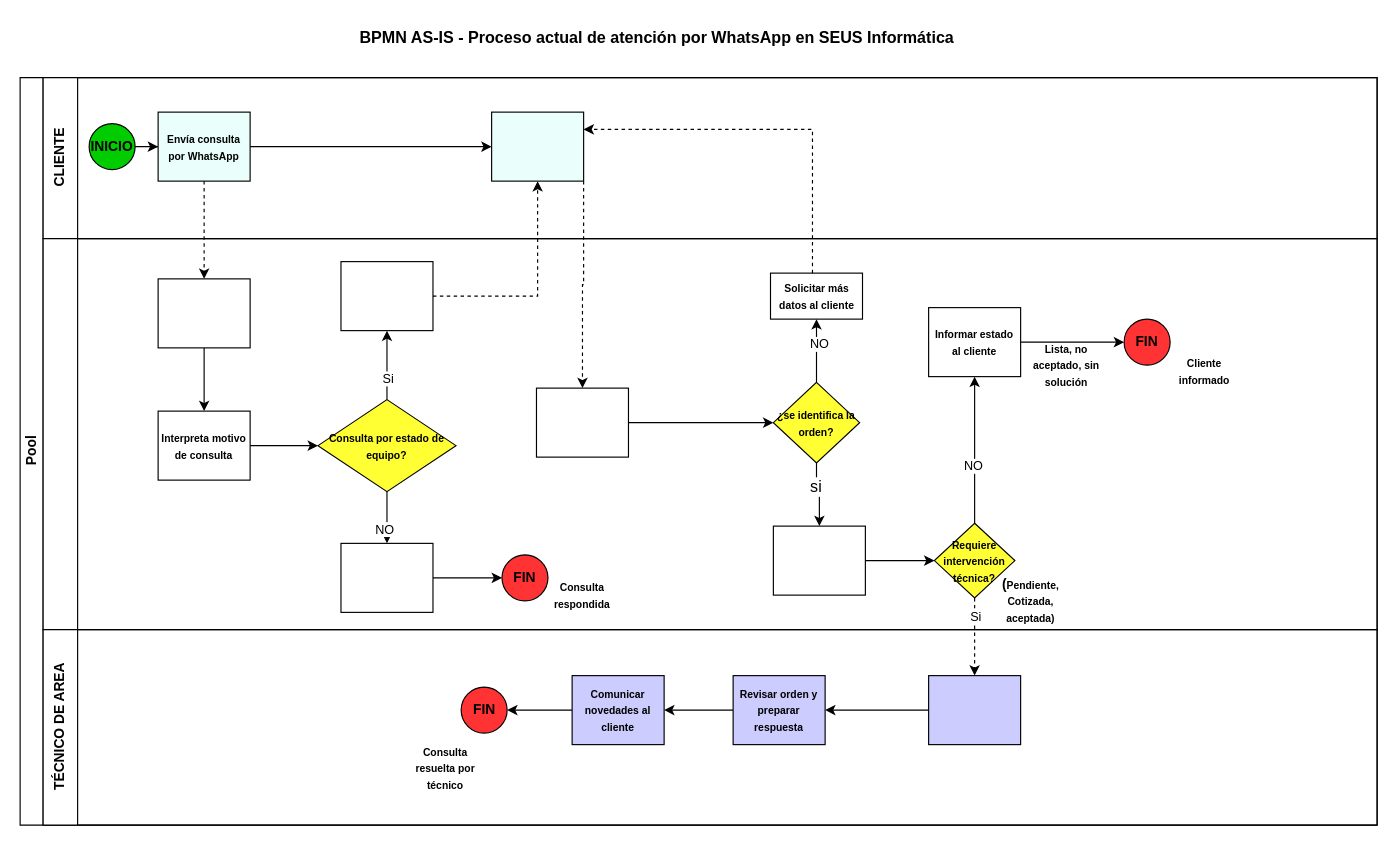
Image size: 1397x845. Some labels were removed from this diagram. Each missing label, with the box of its shape:
Busca Cliente u Orden en el sistema: (535, 387, 628, 457)
Derivar consulta al técnico de área: (927, 674, 1021, 745)
Envía número de orden o nombre de cliente: (490, 111, 584, 181)
Lee el mensaje recibido: (157, 278, 250, 348)
PERSONAL ATENCIÓN / WHATSAPP: (42, 237, 1377, 630)
Responde consulta general manualmente: (340, 542, 433, 612)
Revisar estado de orden: (772, 525, 865, 595)
Solicita número de orden o nombre Cliente: (340, 260, 433, 331)
